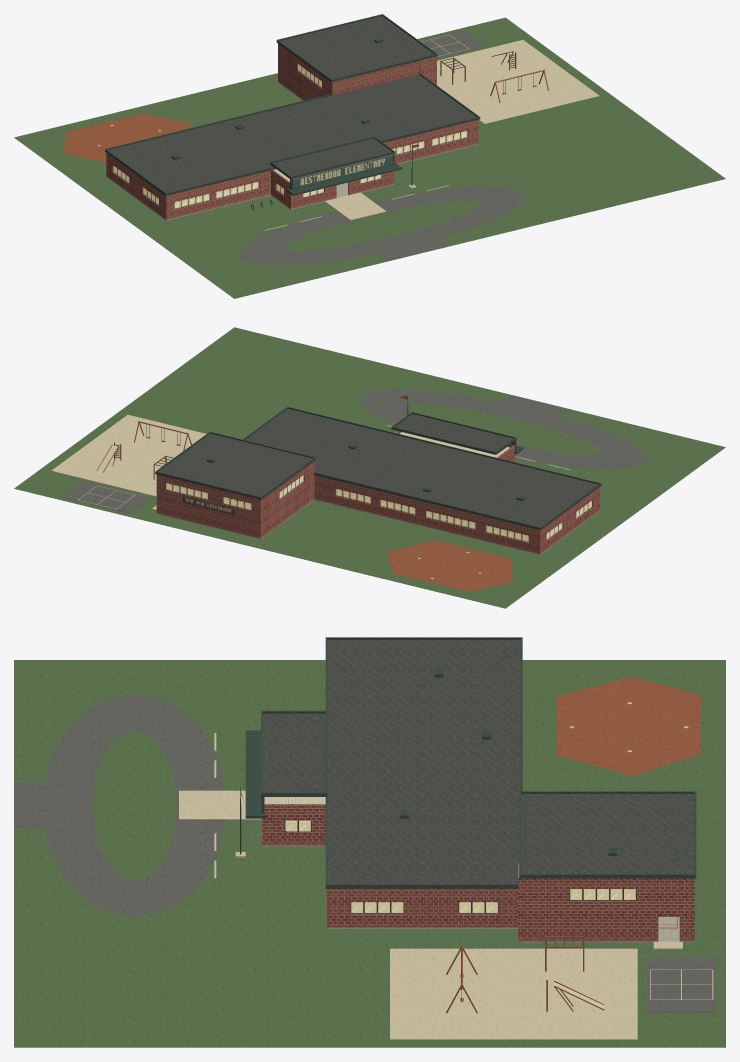
File: westmeadow-1955-far.glb
The picture shows the model from 3 angles, top to bottom: view 1: azimuth 30°, elevation 25°; view 2: azimuth 150°, elevation 25°; view 3: azimuth 270°, elevation 25°; orthographic projection. The views are drawn at different scales.
Parts seen in each view (by area): view 1: lot, building_shell, sign_name; view 2: lot, building_shell; view 3: lot, building_shell.
Boxes of the visible parts, box(x1,y1,x2,y2) form: lot: box(14, 17, 725, 298); building_shell: box(105, 14, 480, 220); sign_name: box(292, 154, 393, 189); lot: box(14, 327, 725, 608); building_shell: box(152, 406, 601, 554); lot: box(14, 660, 725, 1047); building_shell: box(245, 637, 696, 949).
Size of what is drawn, in the model's own units: 85 by 7.11 by 66.
11 materials, 11 textured.
